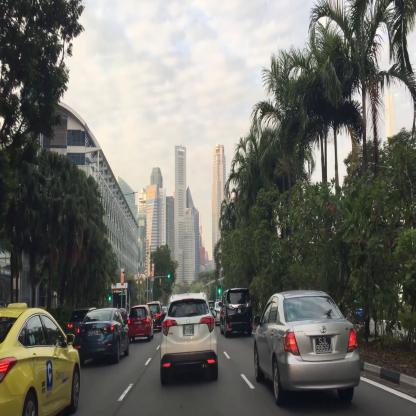green_traffic_light: (218, 284, 220, 294), (109, 290, 111, 300), (168, 275, 173, 278)
